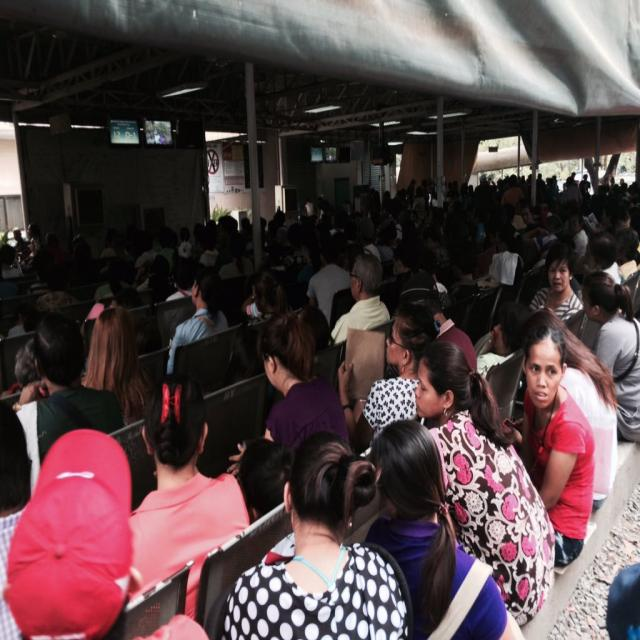body: (364, 337, 558, 629), (1, 204, 313, 375), (312, 169, 640, 320), (0, 428, 211, 640), (220, 429, 415, 640), (361, 417, 529, 640), (127, 372, 252, 624), (494, 323, 595, 569), (505, 305, 621, 513), (224, 306, 350, 478), (14, 309, 104, 502), (336, 298, 442, 457), (0, 375, 61, 640), (580, 268, 640, 448), (232, 434, 305, 534), (166, 265, 228, 378), (429, 320, 524, 391), (327, 251, 392, 347), (80, 304, 144, 394), (527, 240, 584, 327)
